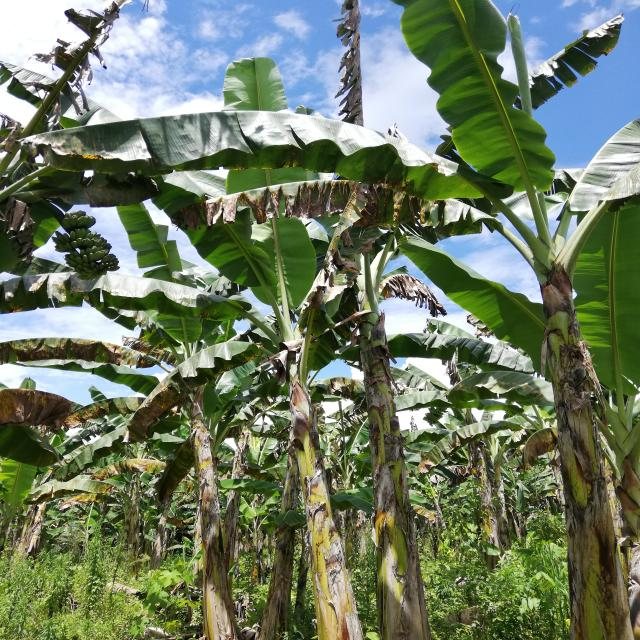Banana-plant: (501, 231, 640, 640), (350, 269, 424, 638), (272, 323, 350, 640), (162, 369, 239, 640)
